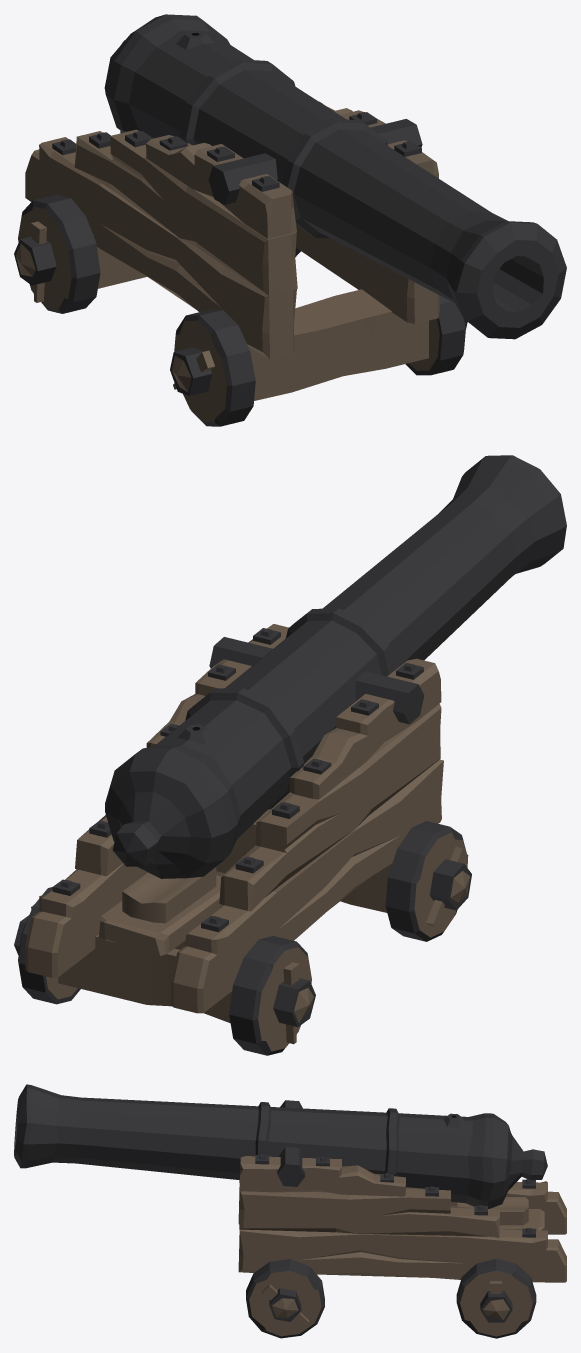
The model's file is SM_Prop_Cannon_01.glb.
3 renders of one model, top to bottom at view 1: azimuth 30°, elevation 25°; view 2: azimuth 150°, elevation 25°; view 3: azimuth 270°, elevation 25°, orthographic. The views are drawn at different scales.
Visible parts, largest first — view 1: SM_Prop_Cannon_01; view 2: SM_Prop_Cannon_01; view 3: SM_Prop_Cannon_01.
Part boxes in pixels (x1,y1,x2,y2): SM_Prop_Cannon_01: [14, 14, 566, 426]; SM_Prop_Cannon_01: [14, 455, 566, 1055]; SM_Prop_Cannon_01: [14, 1084, 566, 1338].
Bounding box in the file's own units: 0.00991 × 0.0103 × 0.0244.
